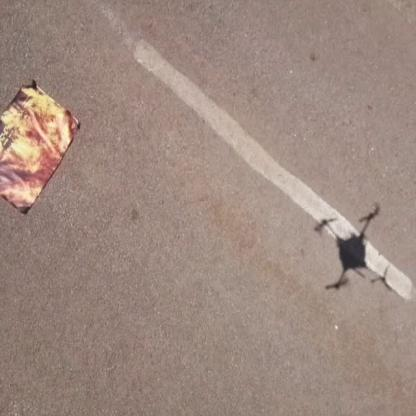fire-poster: (0, 78, 81, 216)
